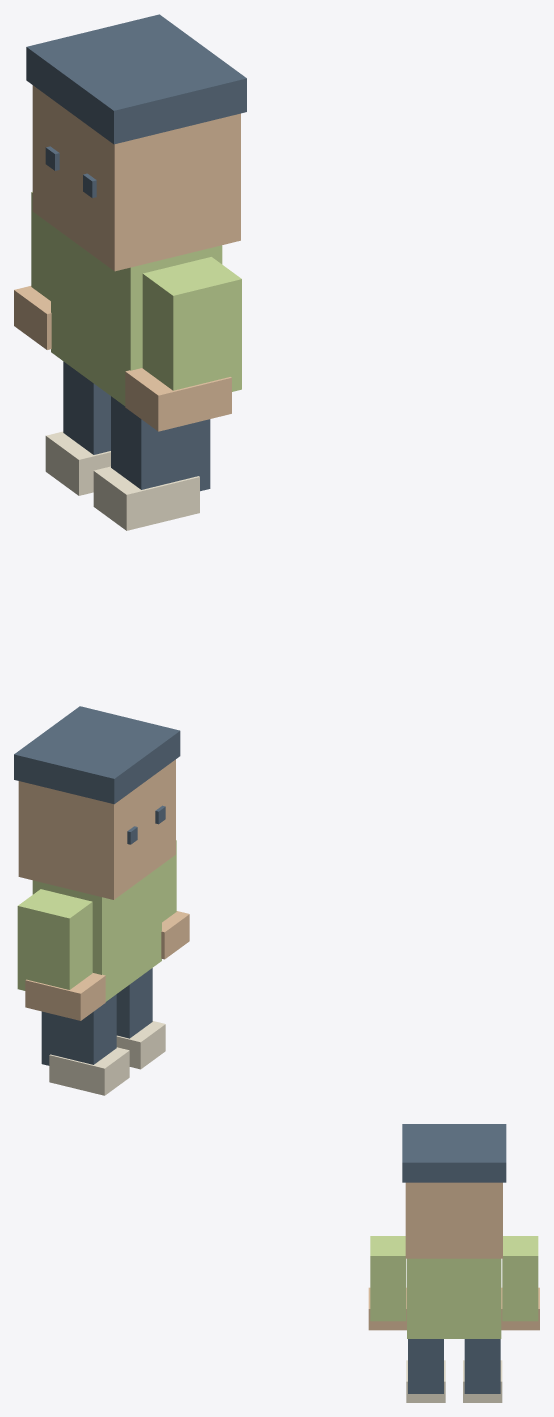
Rendered from dragon.glb.
The picture shows the model from 3 angles, top to bottom: view 1: azimuth 30°, elevation 25°; view 2: azimuth 150°, elevation 25°; view 3: azimuth 270°, elevation 25°; orthographic projection. The views are drawn at different scales.
Parts seen in each view (by area): view 1: Preview_head, Preview_hair, Preview_body, Preview_RightArm, Preview_RightLeg, Preview_tip.003, Preview_tip.001, Preview_LeftLeg, Preview_tip.002, Preview_tip, Preview_LeftArm; view 2: Preview_head, Preview_hair, Preview_body, Preview_LeftArm, Preview_LeftLeg, Preview_tip.002, Preview_tip, Preview_RightLeg, Preview_tip.003, Preview_tip.001, Preview_RightArm; view 3: Preview_body, Preview_head, Preview_hair, Preview_LeftArm, Preview_RightArm, Preview_LeftLeg, Preview_RightLeg, Preview_tip.002, Preview_tip, Preview_tip.001, Preview_tip.003.
Boxes of the visible parts, x1,y1,x2,y2 form: Preview_head: (32, 85, 240, 271); Preview_hair: (26, 14, 246, 144); Preview_body: (51, 225, 222, 405); Preview_RightArm: (142, 257, 241, 391); Preview_RightLeg: (111, 396, 210, 491); Preview_tip.003: (93, 466, 199, 530); Preview_tip.001: (125, 368, 231, 431); Preview_LeftLeg: (63, 361, 110, 454); Preview_tip.002: (45, 431, 110, 495); Preview_tip: (14, 286, 51, 349); Preview_LeftArm: (31, 192, 50, 300); Preview_head: (18, 759, 175, 899); Preview_hair: (14, 706, 180, 804); Preview_body: (32, 865, 161, 1001); Preview_LeftArm: (17, 889, 92, 990); Preview_LeftLeg: (41, 994, 116, 1065); Preview_tip.002: (49, 1047, 129, 1095); Preview_tip: (25, 973, 105, 1020); Preview_RightLeg: (116, 968, 152, 1038); Preview_tip.003: (116, 1021, 165, 1069); Preview_tip.001: (161, 911, 189, 959); Preview_RightArm: (162, 840, 176, 922); Preview_body: (407, 1258, 501, 1338); Preview_head: (405, 1182, 502, 1258); Preview_hair: (402, 1124, 506, 1182); Preview_LeftArm: (502, 1236, 538, 1321); Preview_RightArm: (370, 1236, 406, 1321); Preview_LeftLeg: (464, 1339, 500, 1393); Preview_RightLeg: (408, 1339, 443, 1393); Preview_tip.002: (463, 1360, 502, 1402); Preview_tip: (501, 1287, 539, 1330); Preview_tip.001: (368, 1287, 406, 1330); Preview_tip.003: (406, 1360, 445, 1402).
Bounding box in the file's own units: 1.23 × 1.78 × 3.35.
